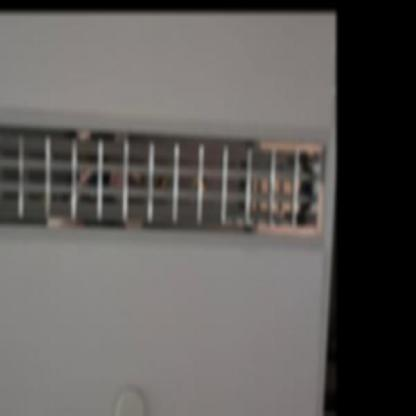light_off: (0, 99, 332, 247)
